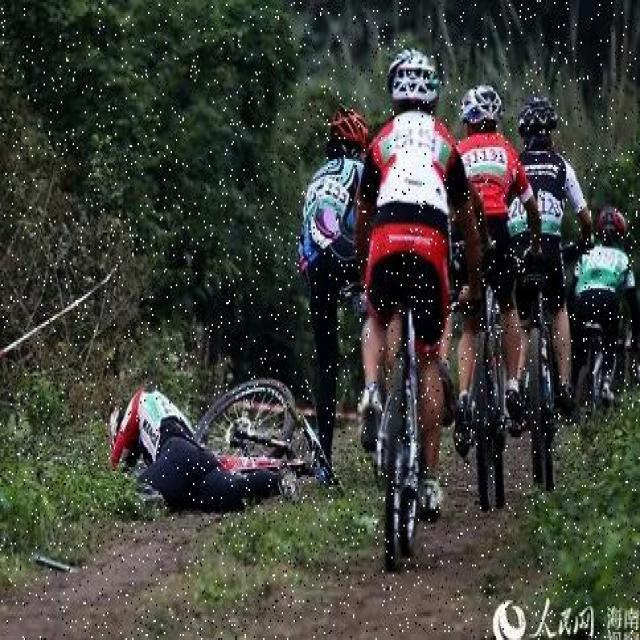fall: (107, 382, 286, 514)
